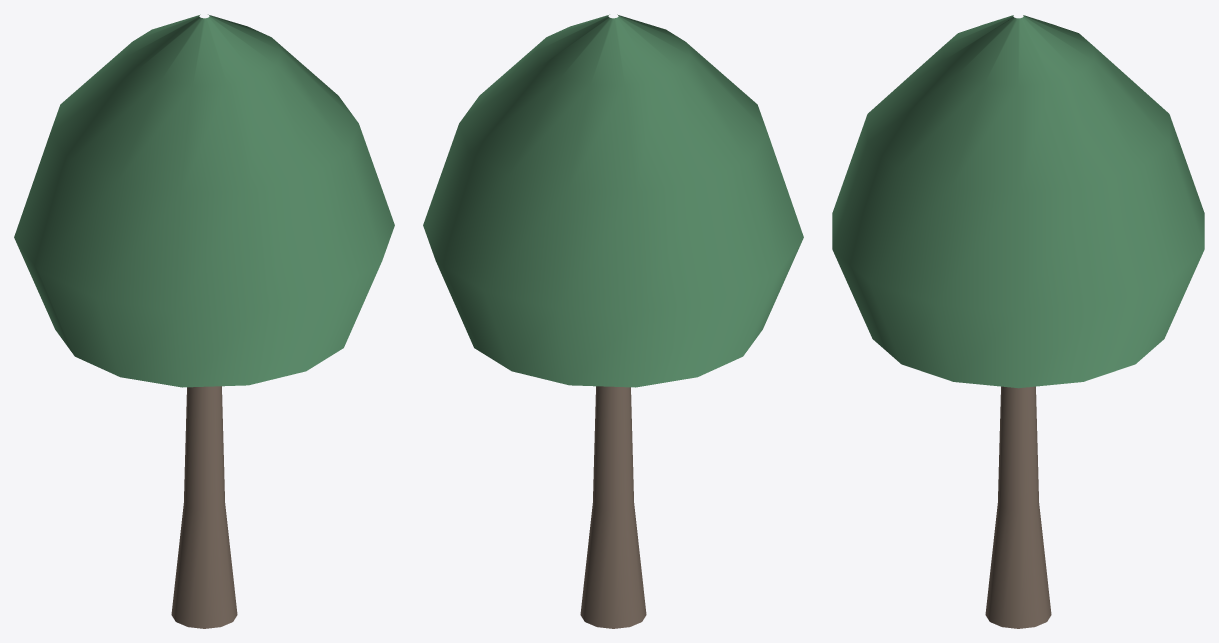
The model's file is urban_tree.glb.
3 views of the same model, side by side, from view 1: azimuth 30°, elevation 25°; view 2: azimuth 150°, elevation 25°; view 3: azimuth 270°, elevation 25° (orthographic).
Visible parts, largest first — view 1: Tree; view 2: Tree; view 3: Tree.
Boxes of the visible parts, x1=… form: Tree: x1=14, y1=14, x2=394, y2=628; Tree: x1=423, y1=14, x2=803, y2=628; Tree: x1=832, y1=15, x2=1204, y2=628.
Size of the model in its own units: 3.7 by 6.4 by 3.61.
